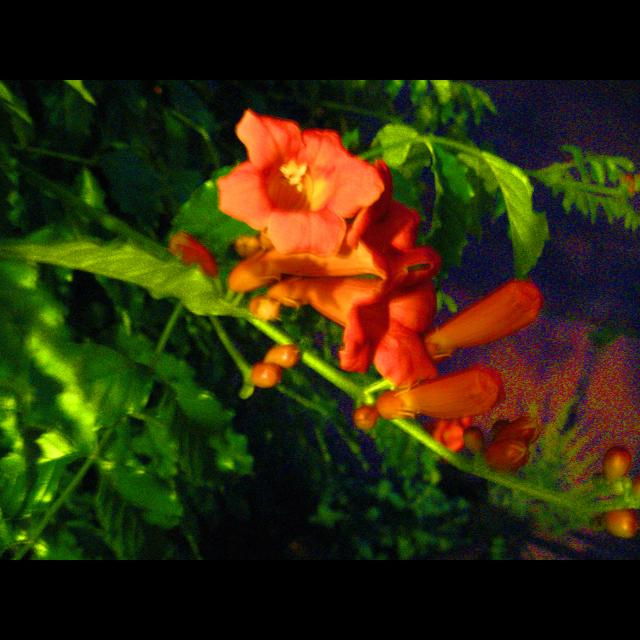Flower: (272, 193, 438, 374), (212, 107, 400, 260), (423, 276, 545, 362), (371, 368, 505, 420)
